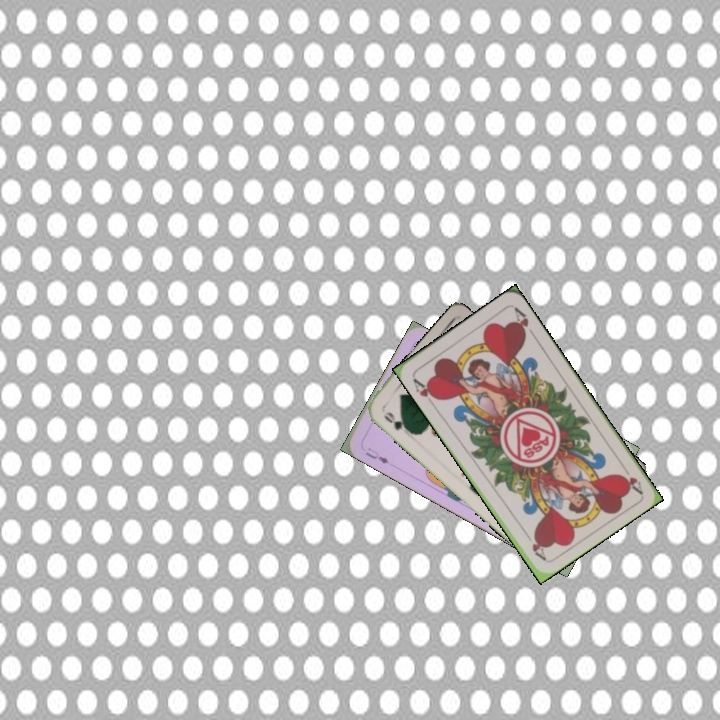EU: (362, 444, 392, 466)
GO: (379, 407, 413, 435)
HA: (408, 373, 442, 408), (617, 459, 645, 496)
